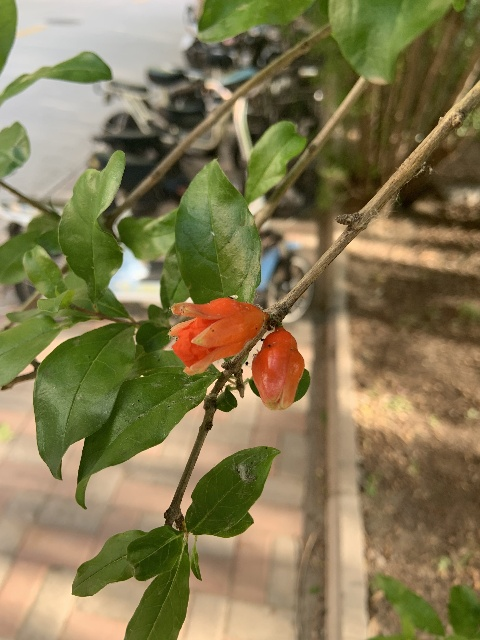bud: (252, 328, 304, 411)
flower: (168, 296, 266, 375)
